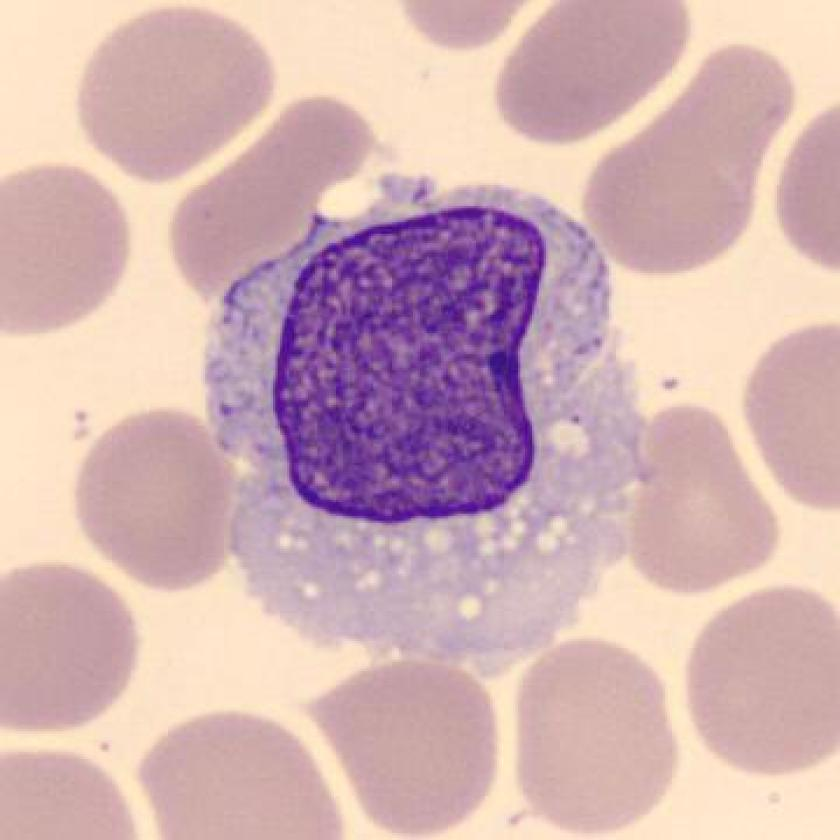monocyte: (178, 154, 680, 691)
